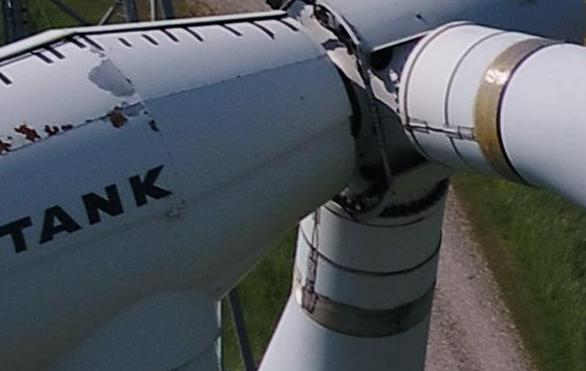damage: (89, 58, 136, 99), (13, 122, 41, 142), (107, 110, 128, 128), (119, 101, 143, 116), (0, 136, 13, 153), (45, 125, 58, 137), (149, 120, 159, 133), (60, 124, 74, 132)
